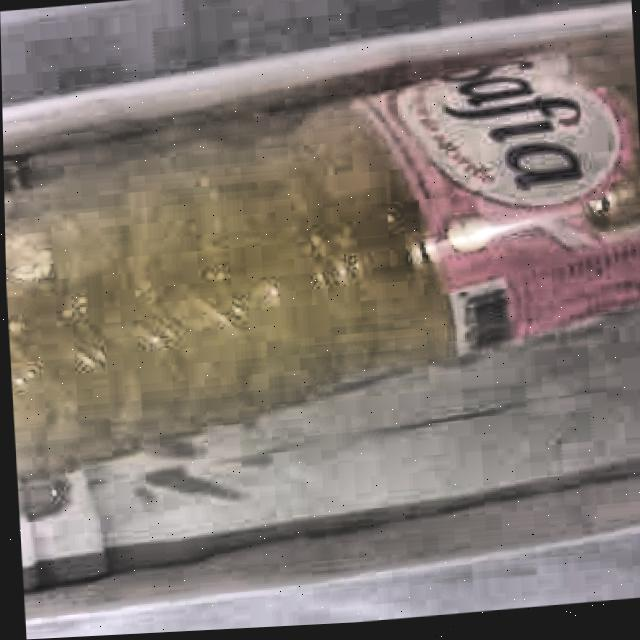plastic: (1, 29, 640, 545)
